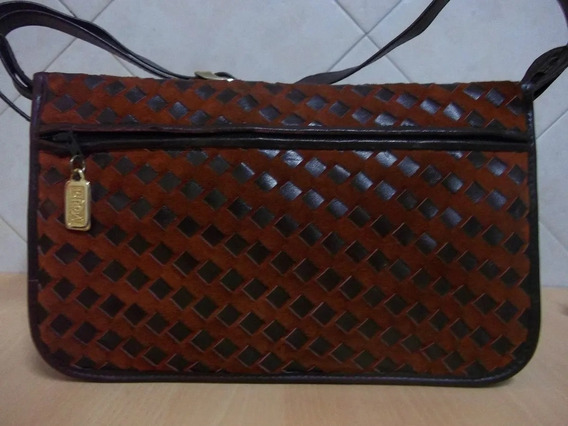cartera: (24, 68, 538, 388)
